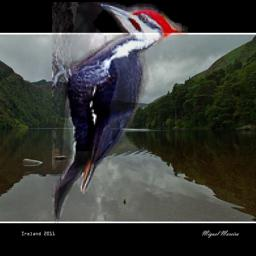Woodpecker: (52, 2, 188, 225)
